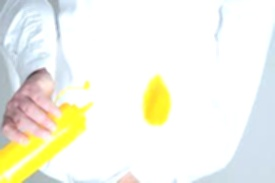mustard: (146, 71, 174, 127)
